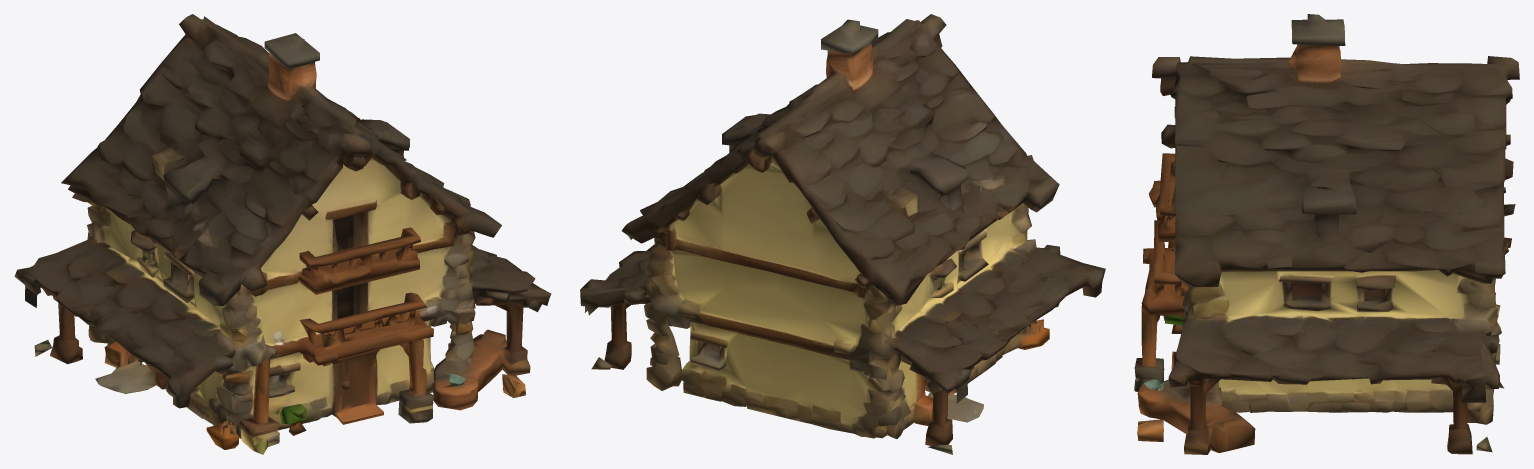
Rendered from tripo_roadside_inn.glb.
3 renders of one model, left to right at view 1: azimuth 30°, elevation 25°; view 2: azimuth 150°, elevation 25°; view 3: azimuth 270°, elevation 25°, orthographic. The views are drawn at different scales.
Parts seen in each view (by area): view 1: roadside_inn; view 2: roadside_inn; view 3: roadside_inn.
Boxes of the visible parts, x1,y1,x2,y2 form: roadside_inn: (14,14,551,454); roadside_inn: (580,14,1105,454); roadside_inn: (1134,14,1519,454).
Bounding box in the file's own units: 11.85 × 10 × 9.88.
1 material, 1 textured.
